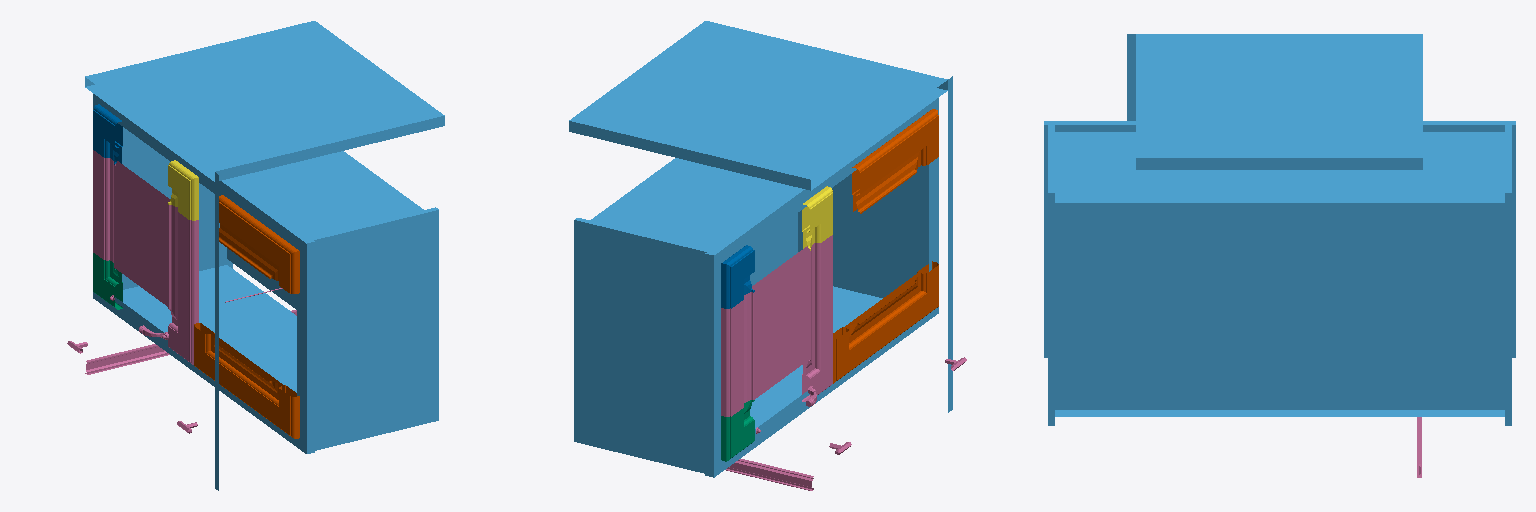
The robot description file, URDF, robot "partnet_c75ebd7c340649ba5ad304c2564ae1df":
<?xml version="1.0" ?>
<robot name="partnet_c75ebd7c340649ba5ad304c2564ae1df">
	
	
	
	
	<link name="base">
		
		
		<inertial>
			
			
			<origin rpy="0 0 0" xyz="0 0 0"/>
			
			
			<mass value="0.0"/>
			
			
			<inertia ixx="0.9" ixy="0.9" ixz="0.9" iyy="0.9" iyz="0.9" izz="0.9"/>
			
		
		</inertial>
		
	
	</link>
	
	
	
	
	<link name="0">
		
		
		
		
		<visual name="door_frame-9">
			
			
			
			
			<origin rpy="0.0 0.0 0.0" xyz="-0.4594064542801477 0.6994047812620767 -0.3716736367086352"/>
			
			
			
			
			<geometry>
				
				
				
				
				<mesh filename="package://textured_objs/original-2.obj"/>
				
				
			
			
			</geometry>
			
			
		
		
		</visual>
		
		
		
		
		<visual name="glass-10">
			
			
			
			
			<origin rpy="0.0 0.0 0.0" xyz="-0.4594064542801477 0.6994047812620767 -0.3716736367086352"/>
			
			
			
			
			<geometry>
				
				
				
				
				<mesh filename="package://textured_objs/original-6.obj"/>
				
				
			
			
			</geometry>
			
			
		
		
		</visual>
		
		
		
		
		<visual name="glass-10">
			
			
			
			
			<origin rpy="0.0 0.0 0.0" xyz="-0.4594064542801477 0.6994047812620767 -0.3716736367086352"/>
			
			
			
			
			<geometry>
				
				
				
				
				<mesh filename="package://textured_objs/original-9.obj"/>
				
				
			
			
			</geometry>
			
			
		
		
		</visual>
		
		
		
		
		<visual name="glass-10">
			
			
			
			
			<origin rpy="0.0 0.0 0.0" xyz="-0.4594064542801477 0.6994047812620767 -0.3716736367086352"/>
			
			
			
			
			<geometry>
				
				
				
				
				<mesh filename="package://textured_objs/original-8.obj"/>
				
				
			
			
			</geometry>
			
			
		
		
		</visual>
		
		
		
		
		<visual name="glass-10">
			
			
			
			
			<origin rpy="0.0 0.0 0.0" xyz="-0.4594064542801477 0.6994047812620767 -0.3716736367086352"/>
			
			
			
			
			<geometry>
				
				
				
				
				<mesh filename="package://textured_objs/original-15.obj"/>
				
				
			
			
			</geometry>
			
			
		
		
		</visual>
		
		
		
		
		<visual name="glass-10">
			
			
			
			
			<origin rpy="0.0 0.0 0.0" xyz="-0.4594064542801477 0.6994047812620767 -0.3716736367086352"/>
			
			
			
			
			<geometry>
				
				
				
				
				<mesh filename="package://textured_objs/original-10.obj"/>
				
				
			
			
			</geometry>
			
			
		
		
		</visual>
		
		
		
		
		<visual name="glass-10">
			
			
			
			
			<origin rpy="0.0 0.0 0.0" xyz="-0.4594064542801477 0.6994047812620767 -0.3716736367086352"/>
			
			
			
			
			<geometry>
				
				
				
				
				<mesh filename="package://textured_objs/original-12.obj"/>
				
				
			
			
			</geometry>
			
			
		
		
		</visual>
		
		
		
		
		<visual name="glass-10">
			
			
			
			
			<origin rpy="0.0 0.0 0.0" xyz="-0.4594064542801477 0.6994047812620767 -0.3716736367086352"/>
			
			
			
			
			<geometry>
				
				
				
				
				<mesh filename="package://textured_objs/original-14.obj"/>
				
				
			
			
			</geometry>
			
			
		
		
		</visual>
		
		
		
		
		<visual name="glass-10">
			
			
			
			
			<origin rpy="0.0 0.0 0.0" xyz="-0.4594064542801477 0.6994047812620767 -0.3716736367086352"/>
			
			
			
			
			<geometry>
				
				
				
				
				<mesh filename="package://textured_objs/original-11.obj"/>
				
				
			
			
			</geometry>
			
			
		
		
		</visual>
		
		
		
		
		<visual name="glass-10">
			
			
			
			
			<origin rpy="0.0 0.0 0.0" xyz="-0.4594064542801477 0.6994047812620767 -0.3716736367086352"/>
			
			
			
			
			<geometry>
				
				
				
				
				<mesh filename="package://textured_objs/original-13.obj"/>
				
				
			
			
			</geometry>
			
			
		
		
		</visual>
		
		
		
		
		<visual name="glass-10">
			
			
			
			
			<origin rpy="0.0 0.0 0.0" xyz="-0.4594064542801477 0.6994047812620767 -0.3716736367086352"/>
			
			
			
			
			<geometry>
				
				
				
				
				<mesh filename="package://textured_objs/original-5.obj"/>
				
				
			
			
			</geometry>
			
			
		
		
		</visual>
		
		
		
		
		<visual name="glass-10">
			
			
			
			
			<origin rpy="0.0 0.0 0.0" xyz="-0.4594064542801477 0.6994047812620767 -0.3716736367086352"/>
			
			
			
			
			<geometry>
				
				
				
				
				<mesh filename="package://textured_objs/original-16.obj"/>
				
				
			
			
			</geometry>
			
			
		
		
		</visual>
		
		
		
		
		<collision>
			
			
			
			
			<origin rpy="0.0 0.0 0.0" xyz="-0.4594064542801477 0.6994047812620767 -0.3716736367086352"/>
			
			
			
			
			<geometry>
				
				
				
				
				<mesh filename="package://textured_objs/original-2.obj"/>
				
				
			
			
			</geometry>
			
			
		
		
		</collision>
		
		
		
		
		<collision>
			
			
			
			
			<origin rpy="0.0 0.0 0.0" xyz="-0.4594064542801477 0.6994047812620767 -0.3716736367086352"/>
			
			
			
			
			<geometry>
				
				
				
				
				<mesh filename="package://textured_objs/original-6.obj"/>
				
				
			
			
			</geometry>
			
			
		
		
		</collision>
		
		
		
		
		<collision>
			
			
			
			
			<origin rpy="0.0 0.0 0.0" xyz="-0.4594064542801477 0.6994047812620767 -0.3716736367086352"/>
			
			
			
			
			<geometry>
				
				
				
				
				<mesh filename="package://textured_objs/original-9.obj"/>
				
				
			
			
			</geometry>
			
			
		
		
		</collision>
		
		
		
		
		<collision>
			
			
			
			
			<origin rpy="0.0 0.0 0.0" xyz="-0.4594064542801477 0.6994047812620767 -0.3716736367086352"/>
			
			
			
			
			<geometry>
				
				
				
				
				<mesh filename="package://textured_objs/original-8.obj"/>
				
				
			
			
			</geometry>
			
			
		
		
		</collision>
		
		
		
		
		<collision>
			
			
			
			
			<origin rpy="0.0 0.0 0.0" xyz="-0.4594064542801477 0.6994047812620767 -0.3716736367086352"/>
			
			
			
			
			<geometry>
				
				
				
				
				<mesh filename="package://textured_objs/original-15.obj"/>
				
				
			
			
			</geometry>
			
			
		
		
		</collision>
		
		
		
		
		<collision>
			
			
			
			
			<origin rpy="0.0 0.0 0.0" xyz="-0.4594064542801477 0.6994047812620767 -0.3716736367086352"/>
			
			
			
			
			<geometry>
				
				
				
				
				<mesh filename="package://textured_objs/original-10.obj"/>
				
				
			
			
			</geometry>
			
			
		
		
		</collision>
		
		
		
		
		<collision>
			
			
			
			
			<origin rpy="0.0 0.0 0.0" xyz="-0.4594064542801477 0.6994047812620767 -0.3716736367086352"/>
			
			
			
			
			<geometry>
				
				
				
				
				<mesh filename="package://textured_objs/original-12.obj"/>
				
				
			
			
			</geometry>
			
			
		
		
		</collision>
		
		
		
		
		<collision>
			
			
			
			
			<origin rpy="0.0 0.0 0.0" xyz="-0.4594064542801477 0.6994047812620767 -0.3716736367086352"/>
			
			
			
			
			<geometry>
				
				
				
				
				<mesh filename="package://textured_objs/original-14.obj"/>
				
				
			
			
			</geometry>
			
			
		
		
		</collision>
		
		
		
		
		<collision>
			
			
			
			
			<origin rpy="0.0 0.0 0.0" xyz="-0.4594064542801477 0.6994047812620767 -0.3716736367086352"/>
			
			
			
			
			<geometry>
				
				
				
				
				<mesh filename="package://textured_objs/original-11.obj"/>
				
				
			
			
			</geometry>
			
			
		
		
		</collision>
		
		
		
		
		<collision>
			
			
			
			
			<origin rpy="0.0 0.0 0.0" xyz="-0.4594064542801477 0.6994047812620767 -0.3716736367086352"/>
			
			
			
			
			<geometry>
				
				
				
				
				<mesh filename="package://textured_objs/original-13.obj"/>
				
				
			
			
			</geometry>
			
			
		
		
		</collision>
		
		
		
		
		<collision>
			
			
			
			
			<origin rpy="0.0 0.0 0.0" xyz="-0.4594064542801477 0.6994047812620767 -0.3716736367086352"/>
			
			
			
			
			<geometry>
				
				
				
				
				<mesh filename="package://textured_objs/original-5.obj"/>
				
				
			
			
			</geometry>
			
			
		
		
		</collision>
		
		
		
		
		<collision>
			
			
			
			
			<origin rpy="0.0 0.0 0.0" xyz="-0.4594064542801477 0.6994047812620767 -0.3716736367086352"/>
			
			
			
			
			<geometry>
				
				
				
				
				<mesh filename="package://textured_objs/original-16.obj"/>
				
				
			
			
			</geometry>
			
			
		
		
		</collision>
		
		
	
		
		<inertial>
			
			
			<origin rpy="0 0 0" xyz="0 0 0"/>
			
			
			<mass value="3.0"/>
			
			
			<inertia ixx="0.9" ixy="0.9" ixz="0.9" iyy="0.9" iyz="0.9" izz="0.9"/>
			
		
		</inertial>
		
	
	</link>
	
	
	
	
	<joint name="joint_0" type="revolute">
		
		
		
		
		<origin rpy="0.0 0.0 0.0" xyz="0.4594064542801477 -0.6994047812620767 0.3716736367086352"/>
		
		
		
		
		<axis xyz="0 -0.0 -1.0"/>
		
		
		
		
		<child link="0"/>
		
		
		
		
		<parent link="5"/>
		
		
		
		
		<limit effort="30" lower="-0.0" upper="1.5707963267948966" velocity="1.0"/>
		
		
	
	
	</joint>
	
	
	
	
	<link name="1">
		
		
		
		
		<visual name="door_button-5">
			
			
			
			
			<origin rpy="0.0 0.0 0.0" xyz="0 0 0"/>
			
			
			
			
			<geometry>
				
				
				
				
				<mesh filename="package://textured_objs/original-22.obj"/>
				
				
			
			
			</geometry>
			
			
		
		
		</visual>
		
		
		
		
		<collision>
			
			
			
			
			<origin rpy="0.0 0.0 0.0" xyz="0 0 0"/>
			
			
			
			
			<geometry>
				
				
				
				
				<mesh filename="package://textured_objs/original-22.obj"/>
				
				
			
			
			</geometry>
			
			
		
		
		</collision>
		
		
	
		
		<inertial>
			
			
			<origin rpy="0 0 0" xyz="0 0 0"/>
			
			
			<mass value="3.0"/>
			
			
			<inertia ixx="0.9" ixy="0.9" ixz="0.9" iyy="0.9" iyz="0.9" izz="0.9"/>
			
		
		</inertial>
		
	
	</link>
	
	
	
	
	<joint name="joint_1" type="fixed">
		
		
		
		
		<origin rpy="0.0 0.0 0.0" xyz="0 0 0"/>
		
		
		
		
		<axis xyz="-1 -0.0 0.0"/>
		
		
		
		
		<child link="1"/>
		
		
		
		
		<parent link="5"/>
		
		
		
		
		<limit effort="30" lower="0.0040000000000000036" upper="0.01200000000000001" velocity="1.0"/>
		
		
	
	
	</joint>
	
	
	
	
	<link name="2">
		
		
		
		
		<visual name="control_button-6">
			
			
			
			
			<origin rpy="0.0 0.0 0.0" xyz="0 -0.595905953683902 0.10762880873845218"/>
			
			
			
			
			<geometry>
				
				
				
				
				<mesh filename="package://textured_objs/original-21.obj"/>
				
				
			
			
			</geometry>
			
			
		
		
		</visual>
		
		
		
		
		<collision>
			
			
			
			
			<origin rpy="0.0 0.0 0.0" xyz="0 -0.595905953683902 0.10762880873845218"/>
			
			
			
			
			<geometry>
				
				
				
				
				<mesh filename="package://textured_objs/original-21.obj"/>
				
				
			
			
			</geometry>
			
			
		
		
		</collision>
		
		
	
		
		<inertial>
			
			
			<origin rpy="0 0 0" xyz="0 0 0"/>
			
			
			<mass value="3.0"/>
			
			
			<inertia ixx="0.9" ixy="0.9" ixz="0.9" iyy="0.9" iyz="0.9" izz="0.9"/>
			
		
		</inertial>
		
	
	</link>
	
	
	
	
	<joint name="joint_2" type="fixed">
		
		
		
		
		<origin rpy="0.0 0.0 0.0" xyz="0 0.595905953683902 -0.10762880873845218"/>
		
		
		
		
		<axis xyz="1 -0.0 0.0"/>
		
		
		
		
		<child link="2"/>
		
		
		
		
		<parent link="5"/>
		
		
	
	
	</joint>
	
	
	
	
	<link name="3">
		
		
		
		
		<visual name="control_button-7">
			
			
			
			
			<origin rpy="0.0 0.0 0.0" xyz="0 -0.5959056708108185 -0.10520150832160682"/>
			
			
			
			
			<geometry>
				
				
				
				
				<mesh filename="package://textured_objs/original-20.obj"/>
				
				
			
			
			</geometry>
			
			
		
		
		</visual>
		
		
		
		
		<collision>
			
			
			
			
			<origin rpy="0.0 0.0 0.0" xyz="0 -0.5959056708108185 -0.10520150832160682"/>
			
			
			
			
			<geometry>
				
				
				
				
				<mesh filename="package://textured_objs/original-20.obj"/>
				
				
			
			
			</geometry>
			
			
		
		
		</collision>
		
		
	
		
		<inertial>
			
			
			<origin rpy="0 0 0" xyz="0 0 0"/>
			
			
			<mass value="3.0"/>
			
			
			<inertia ixx="0.9" ixy="0.9" ixz="0.9" iyy="0.9" iyz="0.9" izz="0.9"/>
			
		
		</inertial>
		
	
	</link>
	
	
	
	
	<joint name="joint_3" type="fixed">
		
		
		
		
		<origin rpy="0.0 0.0 0.0" xyz="0 0.5959056708108185 0.10520150832160682"/>
		
		
		
		
		<axis xyz="1 -0.0 0.0"/>
		
		
		
		
		<child link="3"/>
		
		
		
		
		<parent link="5"/>
		
		
	
	
	</joint>
	
	
	
	
	<link name="4">
		
		
		
		
		<visual name="tray-12">
			
			
			
			
			<origin rpy="0.0 0.0 0.0" xyz="0.02379955083131792 0.149241880774498 0"/>
			
			
			
			
			<geometry>
				
				
				
				
				<mesh filename="package://textured_objs/original-44.obj"/>
				
				
			
			
			</geometry>
			
			
		
		
		</visual>
		
		
		
		
		<visual name="tray_support-13">
			
			
			
			
			<origin rpy="0.0 0.0 0.0" xyz="0.02379955083131792 0.149241880774498 0"/>
			
			
			
			
			<geometry>
				
				
				
				
				<mesh filename="package://textured_objs/original-43.obj"/>
				
				
			
			
			</geometry>
			
			
		
		
		</visual>
		
		
		
		
		<visual name="tray_support-13">
			
			
			
			
			<origin rpy="0.0 0.0 0.0" xyz="0.02379955083131792 0.149241880774498 0"/>
			
			
			
			
			<geometry>
				
				
				
				
				<mesh filename="package://textured_objs/original-45.obj"/>
				
				
			
			
			</geometry>
			
			
		
		
		</visual>
		
		
		
		
		<visual name="tray_support-13">
			
			
			
			
			<origin rpy="0.0 0.0 0.0" xyz="0.02379955083131792 0.149241880774498 0"/>
			
			
			
			
			<geometry>
				
				
				
				
				<mesh filename="package://textured_objs/original-41.obj"/>
				
				
			
			
			</geometry>
			
			
		
		
		</visual>
		
		
		
		
		<visual name="tray_support-13">
			
			
			
			
			<origin rpy="0.0 0.0 0.0" xyz="0.02379955083131792 0.149241880774498 0"/>
			
			
			
			
			<geometry>
				
				
				
				
				<mesh filename="package://textured_objs/original-42.obj"/>
				
				
			
			
			</geometry>
			
			
		
		
		</visual>
		
		
		
		
		<collision>
			
			
			
			
			<origin rpy="0.0 0.0 0.0" xyz="0.02379955083131792 0.149241880774498 0"/>
			
			
			
			
			<geometry>
				
				
				
				
				<mesh filename="package://textured_objs/original-44.obj"/>
				
				
			
			
			</geometry>
			
			
		
		
		</collision>
		
		
		
		
		<collision>
			
			
			
			
			<origin rpy="0.0 0.0 0.0" xyz="0.02379955083131792 0.149241880774498 0"/>
			
			
			
			
			<geometry>
				
				
				
				
				<mesh filename="package://textured_objs/original-43.obj"/>
				
				
			
			
			</geometry>
			
			
		
		
		</collision>
		
		
		
		
		<collision>
			
			
			
			
			<origin rpy="0.0 0.0 0.0" xyz="0.02379955083131792 0.149241880774498 0"/>
			
			
			
			
			<geometry>
				
				
				
				
				<mesh filename="package://textured_objs/original-45.obj"/>
				
				
			
			
			</geometry>
			
			
		
		
		</collision>
		
		
		
		
		<collision>
			
			
			
			
			<origin rpy="0.0 0.0 0.0" xyz="0.02379955083131792 0.149241880774498 0"/>
			
			
			
			
			<geometry>
				
				
				
				
				<mesh filename="package://textured_objs/original-41.obj"/>
				
				
			
			
			</geometry>
			
			
		
		
		</collision>
		
		
		
		
		<collision>
			
			
			
			
			<origin rpy="0.0 0.0 0.0" xyz="0.02379955083131792 0.149241880774498 0"/>
			
			
			
			
			<geometry>
				
				
				
				
				<mesh filename="package://textured_objs/original-42.obj"/>
				
				
			
			
			</geometry>
			
			
		
		
		</collision>
		
		
	
		
		<inertial>
			
			
			<origin rpy="0 0 0" xyz="0 0 0"/>
			
			
			<mass value="3.0"/>
			
			
			<inertia ixx="0.9" ixy="0.9" ixz="0.9" iyy="0.9" iyz="0.9" izz="0.9"/>
			
		
		</inertial>
		
	
	</link>
	
	
	
	
	<joint name="joint_4" type="fixed">
		
		
		
		
		<origin rpy="0.0 0.0 0.0" xyz="-0.02379955083131792 -0.149241880774498 0"/>
		
		
		
		
		<axis xyz="0 -0.0 1.0"/>
		
		
		
		
		<child link="4"/>
		
		
		
		
		<parent link="5"/>
		
		
	
	
	</joint>
	
	
	
	
	<link name="5">
		
		
		
		
		<visual name="frame-2">
			
			
			
			
			<origin rpy="0.0 0.0 0.0" xyz="0 0 0"/>
			
			
			
			
			<geometry>
				
				
				
				
				<mesh filename="package://textured_objs/original-36.obj"/>
				
				
			
			
			</geometry>
			
			
		
		
		</visual>
		
		
		
		
		<visual name="display_panel-8">
			
			
			
			
			<origin rpy="0.0 0.0 0.0" xyz="0 0 0"/>
			
			
			
			
			<geometry>
				
				
				
				
				<mesh filename="package://textured_objs/original-26.obj"/>
				
				
			
			
			</geometry>
			
			
		
		
		</visual>
		
		
		
		
		<visual name="display_panel-8">
			
			
			
			
			<origin rpy="0.0 0.0 0.0" xyz="0 0 0"/>
			
			
			
			
			<geometry>
				
				
				
				
				<mesh filename="package://textured_objs/original-27.obj"/>
				
				
			
			
			</geometry>
			
			
		
		
		</visual>
		
		
		
		
		<visual name="display_panel-8">
			
			
			
			
			<origin rpy="0.0 0.0 0.0" xyz="0 0 0"/>
			
			
			
			
			<geometry>
				
				
				
				
				<mesh filename="package://textured_objs/original-28.obj"/>
				
				
			
			
			</geometry>
			
			
		
		
		</visual>
		
		
		
		
		<visual name="display_panel-8">
			
			
			
			
			<origin rpy="0.0 0.0 0.0" xyz="0 0 0"/>
			
			
			
			
			<geometry>
				
				
				
				
				<mesh filename="package://textured_objs/original-29.obj"/>
				
				
			
			
			</geometry>
			
			
		
		
		</visual>
		
		
		
		
		<visual name="display_panel-8">
			
			
			
			
			<origin rpy="0.0 0.0 0.0" xyz="0 0 0"/>
			
			
			
			
			<geometry>
				
				
				
				
				<mesh filename="package://textured_objs/original-30.obj"/>
				
				
			
			
			</geometry>
			
			
		
		
		</visual>
		
		
		
		
		<visual name="display_panel-8">
			
			
			
			
			<origin rpy="0.0 0.0 0.0" xyz="0 0 0"/>
			
			
			
			
			<geometry>
				
				
				
				
				<mesh filename="package://textured_objs/original-31.obj"/>
				
				
			
			
			</geometry>
			
			
		
		
		</visual>
		
		
		
		
		<visual name="display_panel-8">
			
			
			
			
			<origin rpy="0.0 0.0 0.0" xyz="0 0 0"/>
			
			
			
			
			<geometry>
				
				
				
				
				<mesh filename="package://textured_objs/original-34.obj"/>
				
				
			
			
			</geometry>
			
			
		
		
		</visual>
		
		
		
		
		<visual name="display_panel-8">
			
			
			
			
			<origin rpy="0.0 0.0 0.0" xyz="0 0 0"/>
			
			
			
			
			<geometry>
				
				
				
				
				<mesh filename="package://textured_objs/original-33.obj"/>
				
				
			
			
			</geometry>
			
			
		
		
		</visual>
		
		
		
		
		<visual name="display_panel-8">
			
			
			
			
			<origin rpy="0.0 0.0 0.0" xyz="0 0 0"/>
			
			
			
			
			<geometry>
				
				
				
				
				<mesh filename="package://textured_objs/original-32.obj"/>
				
				
			
			
			</geometry>
			
			
		
		
		</visual>
		
		
		
		
		<visual name="display_panel-8">
			
			
			
			
			<origin rpy="0.0 0.0 0.0" xyz="0 0 0"/>
			
			
			
			
			<geometry>
				
				
				
				
				<mesh filename="package://textured_objs/original-35.obj"/>
				
				
			
			
			</geometry>
			
			
		
		
		</visual>
		
		
		
		
		<visual name="display_panel-8">
			
			
			
			
			<origin rpy="0.0 0.0 0.0" xyz="0 0 0"/>
			
			
			
			
			<geometry>
				
				
				
				
				<mesh filename="package://textured_objs/original-23.obj"/>
				
				
			
			
			</geometry>
			
			
		
		
		</visual>
		
		
		
		
		<collision>
			
			
			
			
			<origin rpy="0.0 0.0 0.0" xyz="0 0 0"/>
			
			
			
			
			<geometry>
				
				
				
				
				<mesh filename="package://textured_objs/original-36.obj"/>
				
				
			
			
			</geometry>
			
			
		
		
		</collision>
		
		
		
		
		<collision>
			
			
			
			
			<origin rpy="0.0 0.0 0.0" xyz="0 0 0"/>
			
			
			
			
			<geometry>
				
				
				
				
				<mesh filename="package://textured_objs/original-26.obj"/>
				
				
			
			
			</geometry>
			
			
		
		
		</collision>
		
		
		
		
		<collision>
			
			
			
			
			<origin rpy="0.0 0.0 0.0" xyz="0 0 0"/>
			
			
			
			
			<geometry>
				
				
				
				
				<mesh filename="package://textured_objs/original-27.obj"/>
				
				
			
			
			</geometry>
			
			
		
		
		</collision>
		
		
		
		
		<collision>
			
			
			
			
			<origin rpy="0.0 0.0 0.0" xyz="0 0 0"/>
			
			
			
			
			<geometry>
				
				
				
				
				<mesh filename="package://textured_objs/original-28.obj"/>
				
				
			
			
			</geometry>
			
			
		
		
		</collision>
		
		
		
		
		<collision>
			
			
			
			
			<origin rpy="0.0 0.0 0.0" xyz="0 0 0"/>
			
			
			
			
			<geometry>
				
				
				
				
				<mesh filename="package://textured_objs/original-29.obj"/>
				
				
			
			
			</geometry>
			
			
		
		
		</collision>
		
		
		
		
		<collision>
			
			
			
			
			<origin rpy="0.0 0.0 0.0" xyz="0 0 0"/>
			
			
			
			
			<geometry>
				
				
				
				
				<mesh filename="package://textured_objs/original-30.obj"/>
				
				
			
			
			</geometry>
			
			
		
		
		</collision>
		
		
		
		
		<collision>
			
			
			
			
			<origin rpy="0.0 0.0 0.0" xyz="0 0 0"/>
			
			
			
			
			<geometry>
				
				
				
				
				<mesh filename="package://textured_objs/original-31.obj"/>
				
				
			
			
			</geometry>
			
			
		
		
		</collision>
		
		
		
		
		<collision>
			
			
			
			
			<origin rpy="0.0 0.0 0.0" xyz="0 0 0"/>
			
			
			
			
			<geometry>
				
				
				
				
				<mesh filename="package://textured_objs/original-34.obj"/>
				
				
			
			
			</geometry>
			
			
		
		
		</collision>
		
		
		
		
		<collision>
			
			
			
			
			<origin rpy="0.0 0.0 0.0" xyz="0 0 0"/>
			
			
			
			
			<geometry>
				
				
				
				
				<mesh filename="package://textured_objs/original-33.obj"/>
				
				
			
			
			</geometry>
			
			
		
		
		</collision>
		
		
		
		
		<collision>
			
			
			
			
			<origin rpy="0.0 0.0 0.0" xyz="0 0 0"/>
			
			
			
			
			<geometry>
				
				
				
				
				<mesh filename="package://textured_objs/original-32.obj"/>
				
				
			
			
			</geometry>
			
			
		
		
		</collision>
		
		
		
		
		<collision>
			
			
			
			
			<origin rpy="0.0 0.0 0.0" xyz="0 0 0"/>
			
			
			
			
			<geometry>
				
				
				
				
				<mesh filename="package://textured_objs/original-35.obj"/>
				
				
			
			
			</geometry>
			
			
		
		
		</collision>
		
		
		
		
		<collision>
			
			
			
			
			<origin rpy="0.0 0.0 0.0" xyz="0 0 0"/>
			
			
			
			
			<geometry>
				
				
				
				
				<mesh filename="package://textured_objs/original-23.obj"/>
				
				
			
			
			</geometry>
			
			
		
		
		</collision>
		
		
	
		
		<inertial>
			
			
			<origin rpy="0 0 0" xyz="0 0 0"/>
			
			
			<mass value="3.0"/>
			
			
			<inertia ixx="0.9" ixy="0.9" ixz="0.9" iyy="0.9" iyz="0.9" izz="0.9"/>
			
		
		</inertial>
		
	
	</link>
	
	
	
	
	<joint name="joint_5" type="fixed">
		
		
		
		
		<origin rpy="1.570796326794897 0 -1.570796326794897" xyz="0 0 0"/>
		
		
		
		
		<child link="5"/>
		
		
		
		
		<parent link="base"/>
		
		
	
	
	</joint>
	
	


</robot>

--- Render facts (derived) ---
The picture shows the robot from 3 angles, left to right: view 1: azimuth 30°, elevation 25°; view 2: azimuth 150°, elevation 25°; view 3: azimuth 270°, elevation 25°; orthographic projection.
Robot: partnet_c75ebd7c340649ba5ad304c2564ae1df — 7 links, 6 joints (1 revolute, 5 fixed); root link base; default pose: every joint at zero.
Visible links, largest first — view 1: 0, 5, 4, 2, 3, 1; view 2: 0, 5, 4, 3, 2, 1; view 3: 0.
Link boxes in pixels (x1,y1,x2,y2): 0: (85, 21, 444, 490); 5: (67, 150, 296, 433); 4: (194, 195, 299, 438); 2: (168, 160, 198, 220); 3: (93, 104, 122, 164); 1: (93, 253, 122, 309); 0: (569, 21, 952, 477); 5: (721, 235, 966, 490); 4: (833, 109, 938, 383); 3: (721, 245, 754, 308); 2: (802, 186, 832, 250); 1: (721, 400, 754, 461); 0: (1044, 34, 1515, 425).
Bounding box of the posed robot: 1.16 × 1.7 × 1.39 m (x, y, z).
Meshes: 32 distinct files referenced, 32 mesh visuals loaded (32 OBJ).
